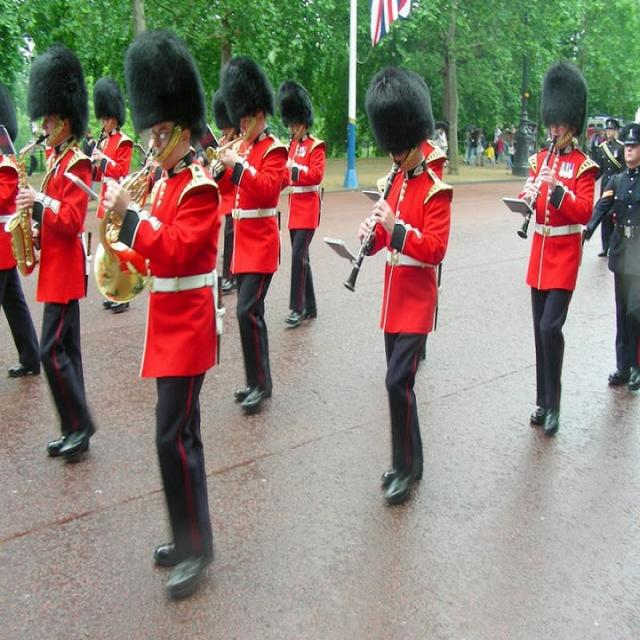clarinet: (341, 162, 399, 294), (514, 135, 556, 240)
